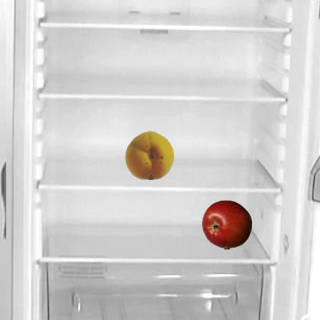Apple Braeburn: (201, 199, 251, 249)
Peach 2: (124, 129, 174, 179)
